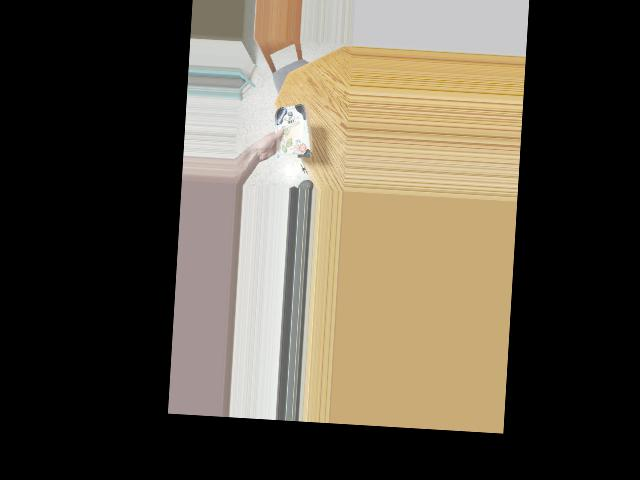cheese: (262, 102, 316, 162)
